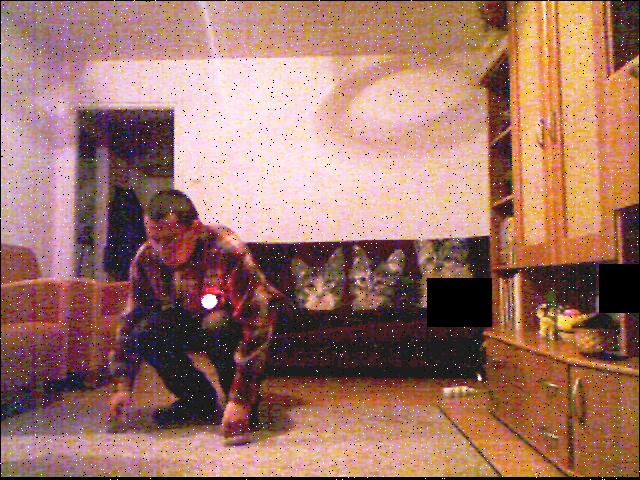sitting: (92, 181, 307, 463)
